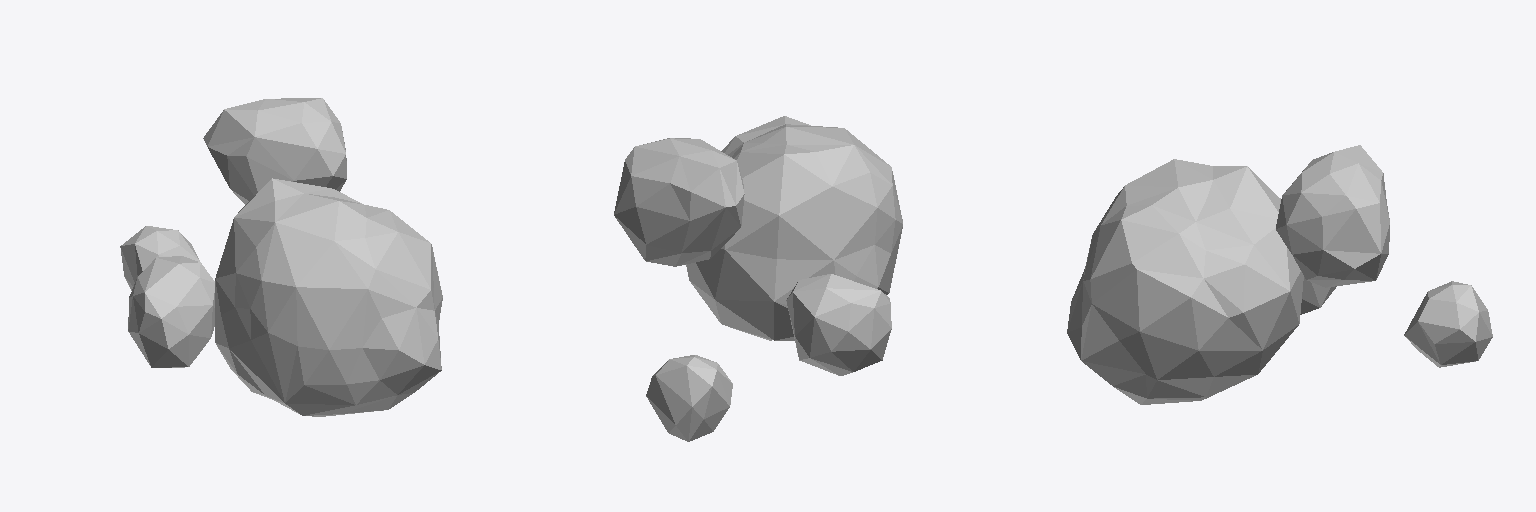
Rendered from tree1_1.obj.
3 views of the same model, side by side, from view 1: azimuth 30°, elevation 25°; view 2: azimuth 150°, elevation 25°; view 3: azimuth 270°, elevation 25° (orthographic).
Parts seen in each view (by area): view 1: Object.1, Object.2, Object.3, Object.4; view 2: Object.1, Object.2, Object.3, Object.4; view 3: Object.1, Object.2, Object.4, Object.3.
Boxes of the visible parts, box(x1,y1,x2,y2) form: Object.1: box(215, 178, 442, 416); Object.2: box(203, 98, 346, 204); Object.3: box(128, 256, 214, 367); Object.4: box(120, 226, 199, 290); Object.1: box(686, 116, 902, 340); Object.2: box(614, 138, 744, 266); Object.3: box(786, 274, 891, 375); Object.4: box(646, 355, 732, 441); Object.1: box(1067, 159, 1303, 404); Object.2: box(1276, 145, 1389, 287); Object.4: box(1404, 281, 1492, 367); Object.3: box(1300, 277, 1336, 314).
Bounding box in the file's own units: 71.62 × 67.27 × 110.